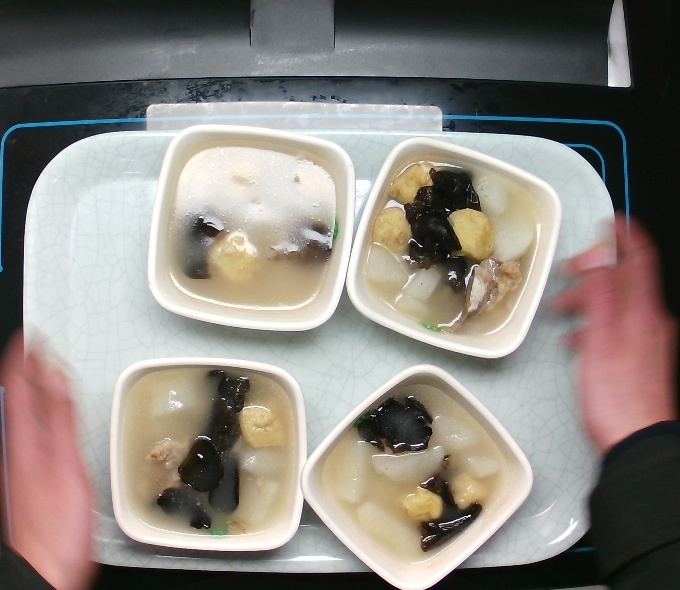wcq-ShanYaoTang: (296, 360, 537, 590), (343, 133, 565, 362), (143, 120, 363, 337), (104, 353, 313, 554)
